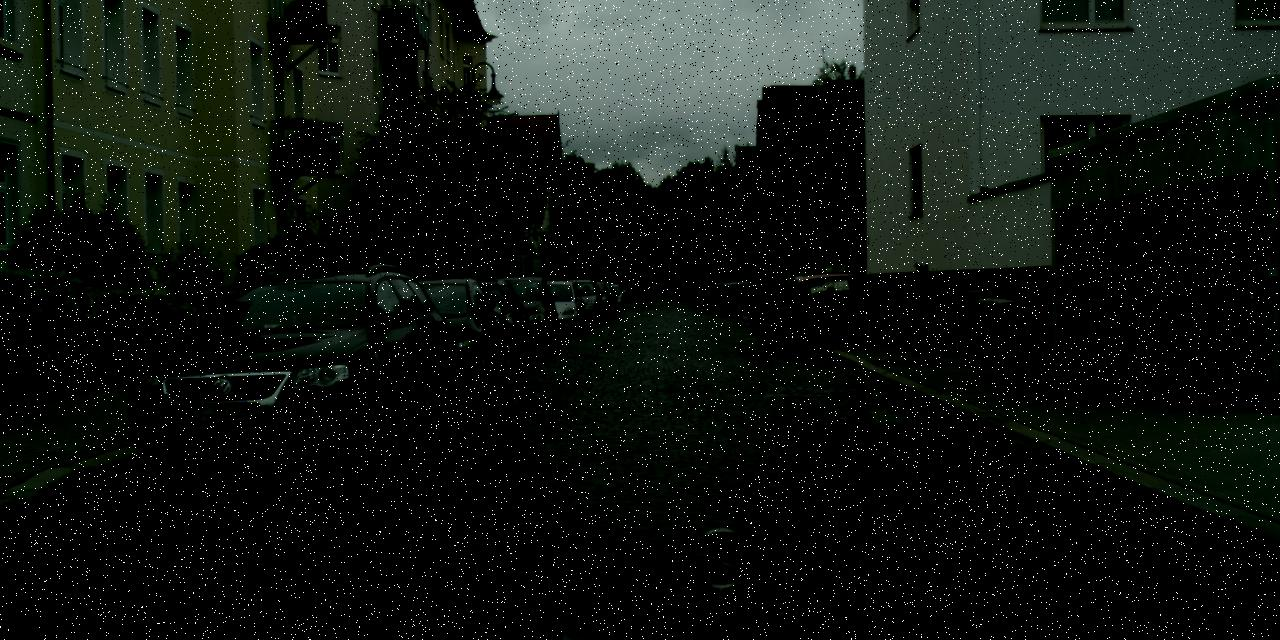ped: (902, 260, 939, 352), (757, 267, 790, 348), (817, 286, 842, 348)
